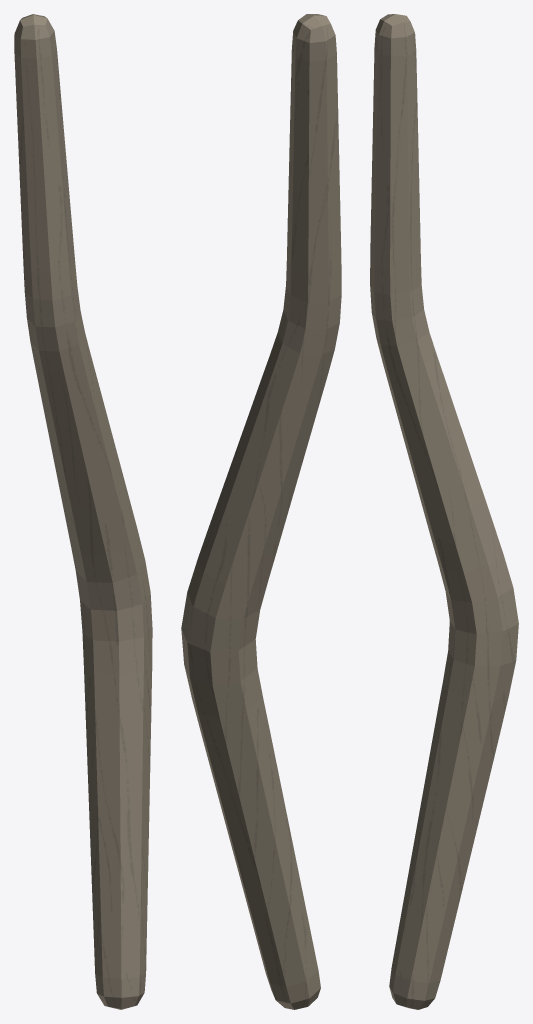
The model's file is Palo2.fbx.
3 renders of one model, left to right at view 1: azimuth 30°, elevation 25°; view 2: azimuth 150°, elevation 25°; view 3: azimuth 330°, elevation 25°, orthographic. The views are drawn at different scales.
Visible parts, largest first — view 1: Vert.024; view 2: Vert.024; view 3: Vert.024.
Boxes of the visible parts, box(x1,y1,x2,y2) form: Vert.024: box(14, 14, 152, 1009); Vert.024: box(181, 14, 341, 1009); Vert.024: box(370, 14, 518, 1009).
Bounding box in the file's own units: 77.21 × 542 × 68.76.
